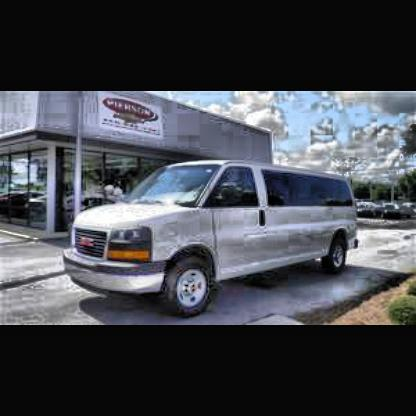GMC Savana Van 2012: (63, 161, 363, 320)
